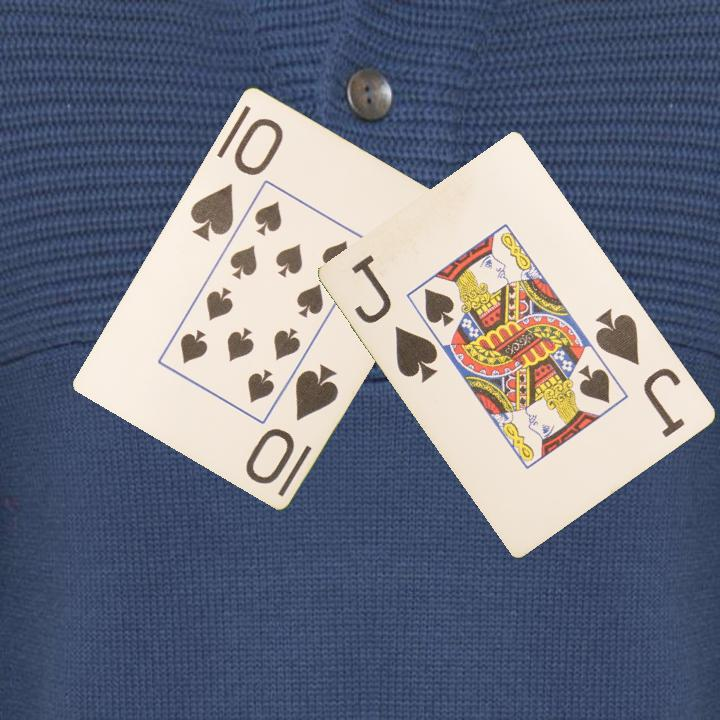10s: (186, 113, 287, 244), (241, 359, 342, 487)
Js: (592, 305, 689, 441), (348, 250, 442, 386)
